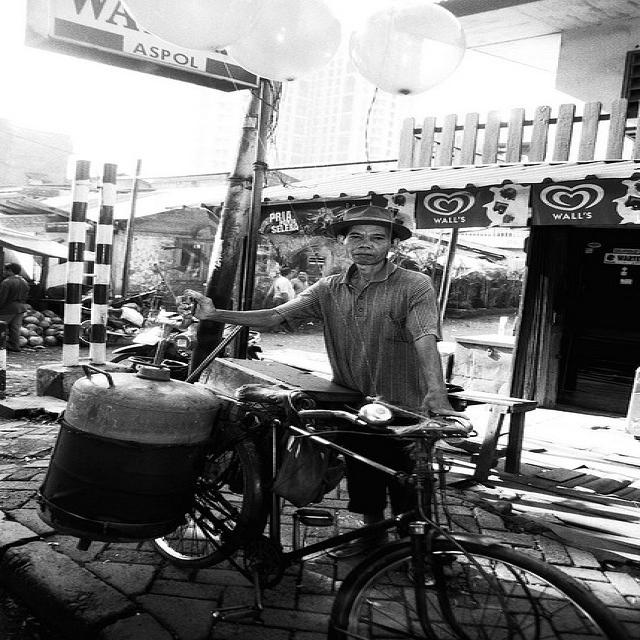motor: (80, 303, 159, 347), (107, 342, 190, 368), (190, 334, 265, 358)
